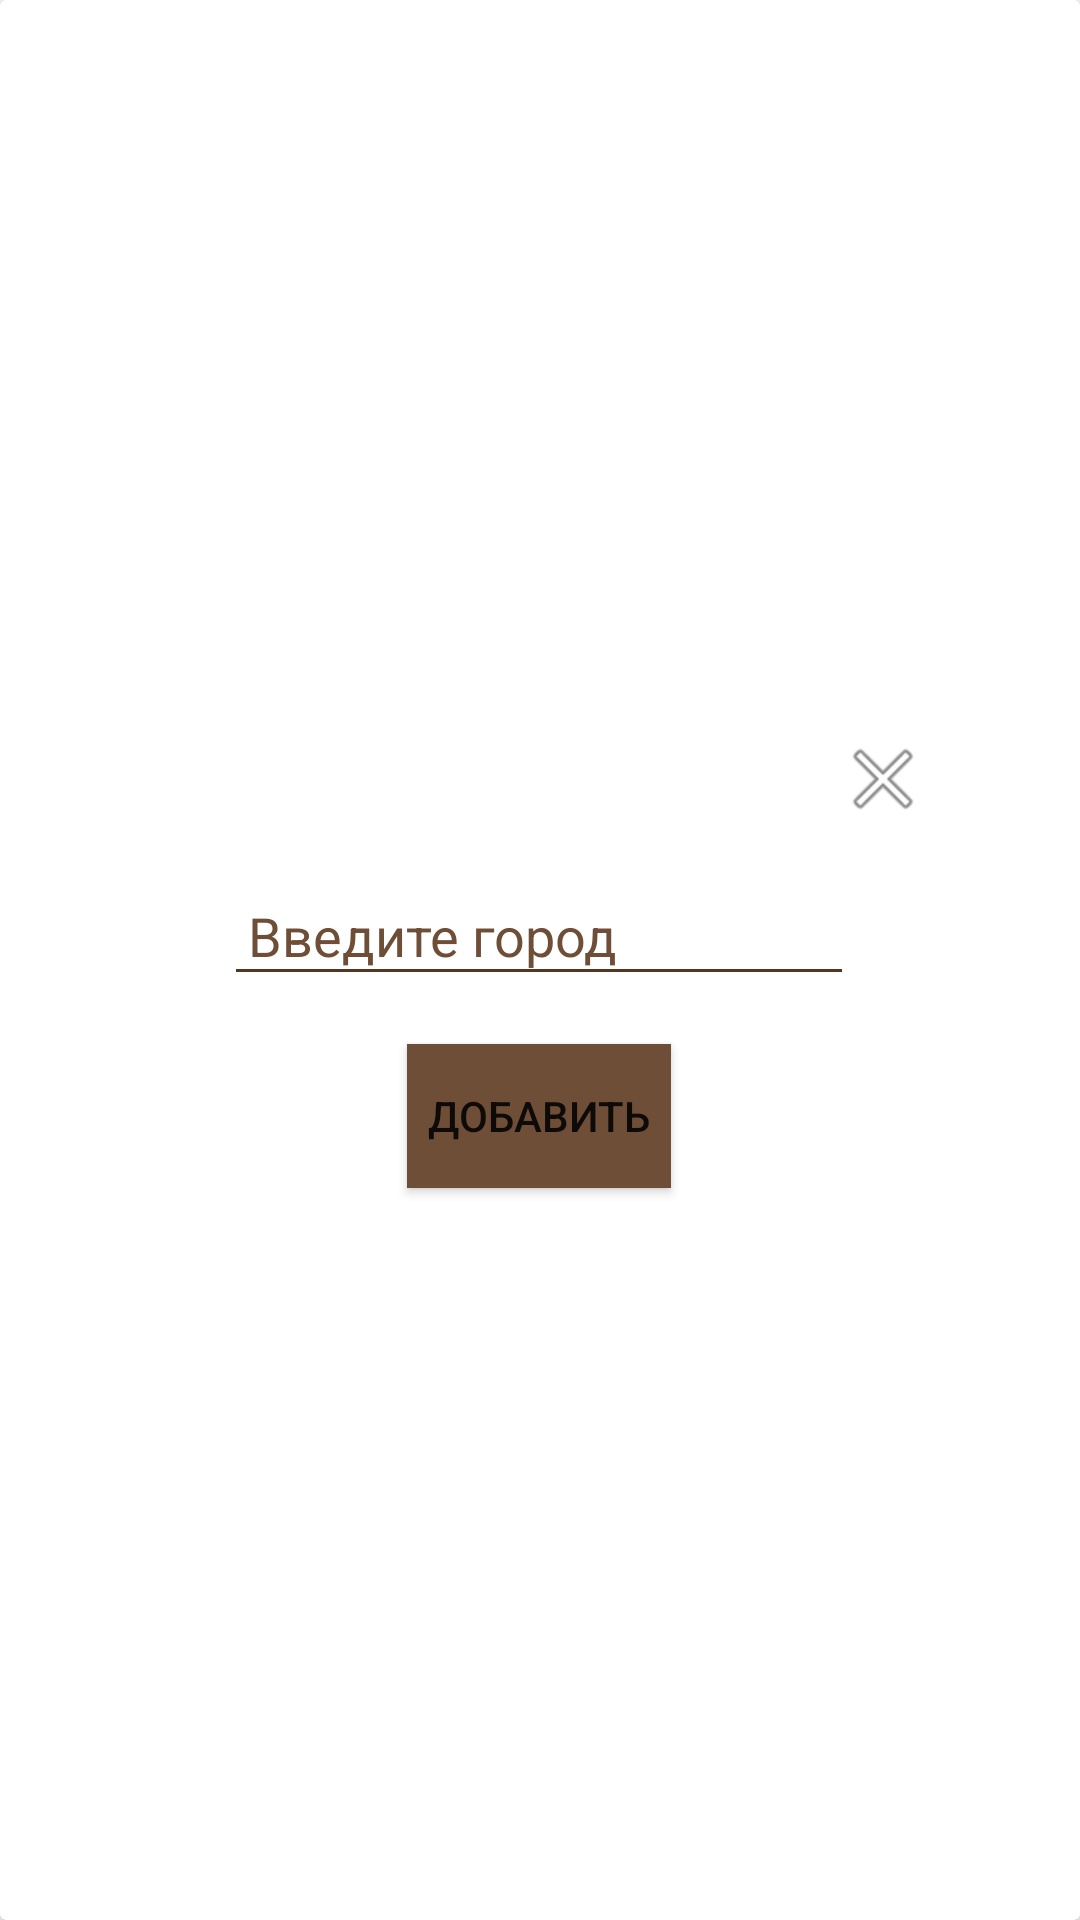

Icons on this 1080 × 1920 Android screen, each with its box as bbox(x1, y1, x2, y2):
close clear cancel: bbox(853, 749, 913, 809)
